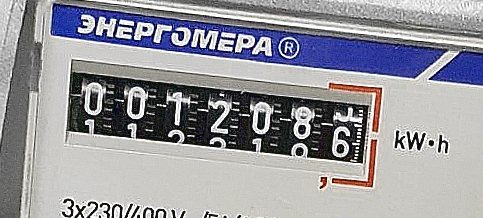0: (79, 76, 108, 117), (123, 82, 150, 121), (247, 97, 274, 135)
1: (164, 87, 189, 128)
2: (206, 96, 235, 136)
6: (327, 121, 353, 159)
8: (288, 102, 316, 141)
screen: (54, 51, 392, 193)
